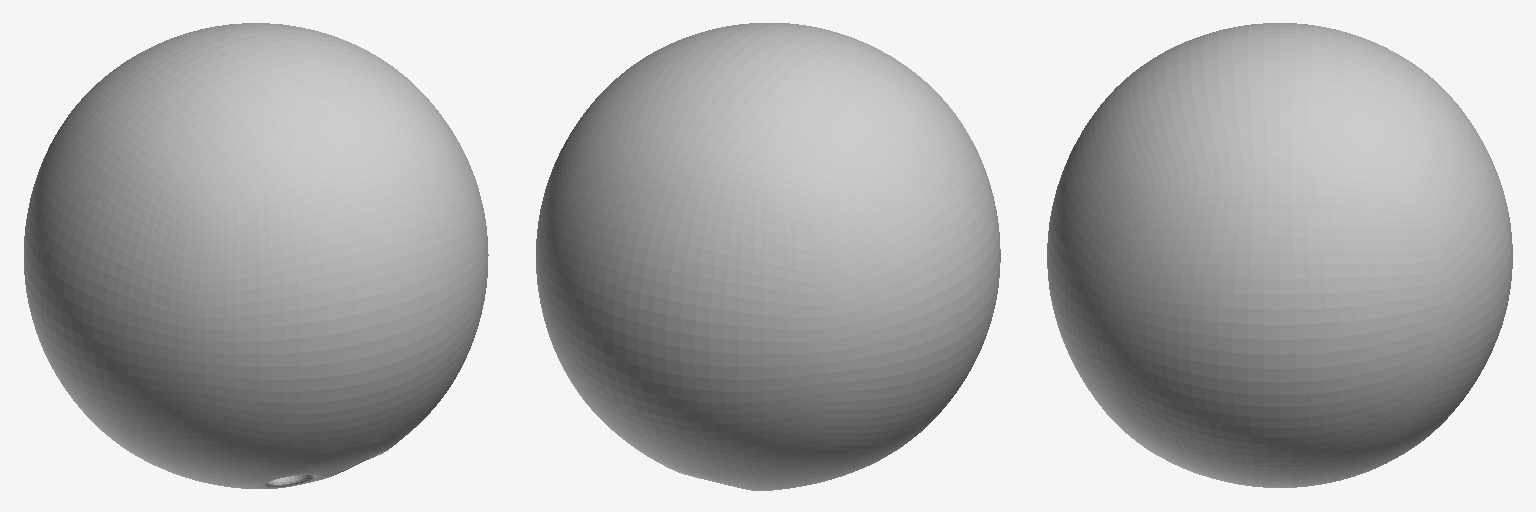
The model's file is 10491_Bowling Ball_v1_max8_iteration-2.obj.
The picture shows the model from 3 angles: view 1: azimuth 30°, elevation 25°; view 2: azimuth 150°, elevation 25°; view 3: azimuth 270°, elevation 25°; orthographic projection.
Parts seen in each view (by area): view 1: objBox02; view 2: objBox02; view 3: objBox02.
Part boxes in pixels (x1,y1,x2,y2): objBox02: (24,23,488,488); objBox02: (536,23,1000,490); objBox02: (1047,23,1512,487).
Bounding box in the file's own units: 21.98 × 21.93 × 21.98.